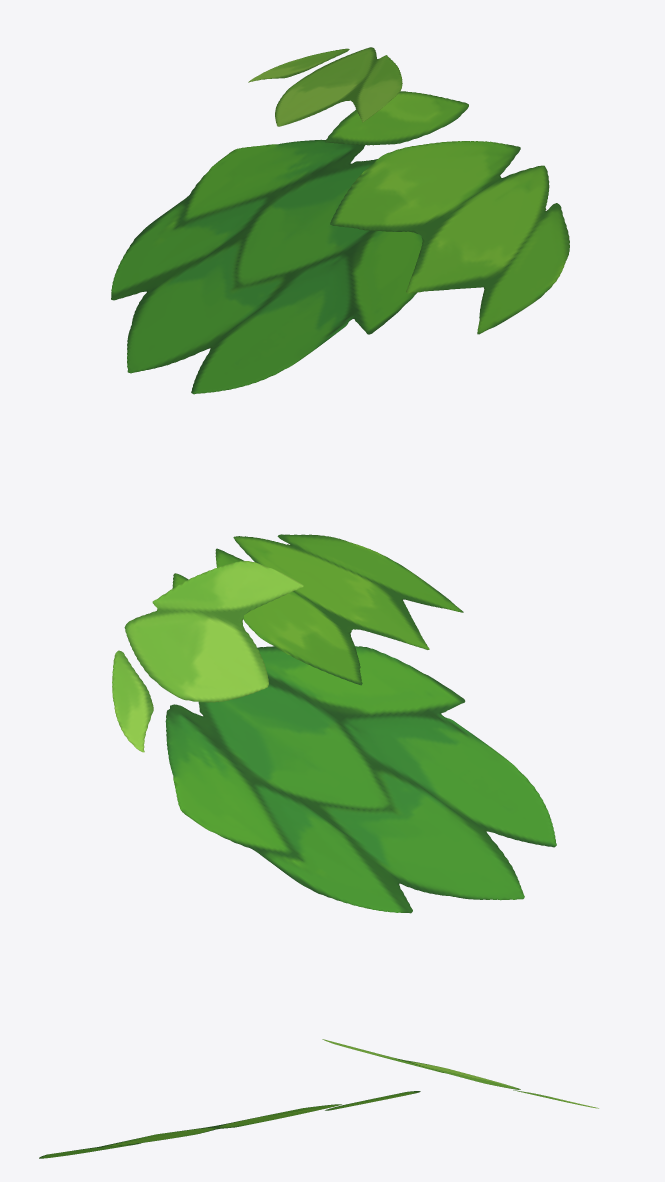
The model's file is desertLeaves1_MESH.fbx.
The picture shows the model from 3 angles, top to bottom: view 1: azimuth 30°, elevation 25°; view 2: azimuth 150°, elevation 25°; view 3: azimuth 270°, elevation 25°; orthographic projection. The views are drawn at different scales.
Parts seen in each view (by area): view 1: Desert_Leaves_1; view 2: Desert_Leaves_1; view 3: Desert_Leaves_1.
Part boxes in pixels (x1,y1,x2,y2): Desert_Leaves_1: [111, 47, 569, 394]; Desert_Leaves_1: [112, 534, 556, 913]; Desert_Leaves_1: [39, 1039, 598, 1158].
Bounding box in the file's own units: 47.01 × 32.79 × 67.1.
